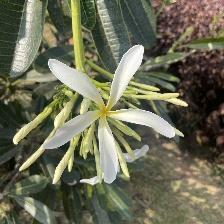champaka: (44, 48, 185, 186)
